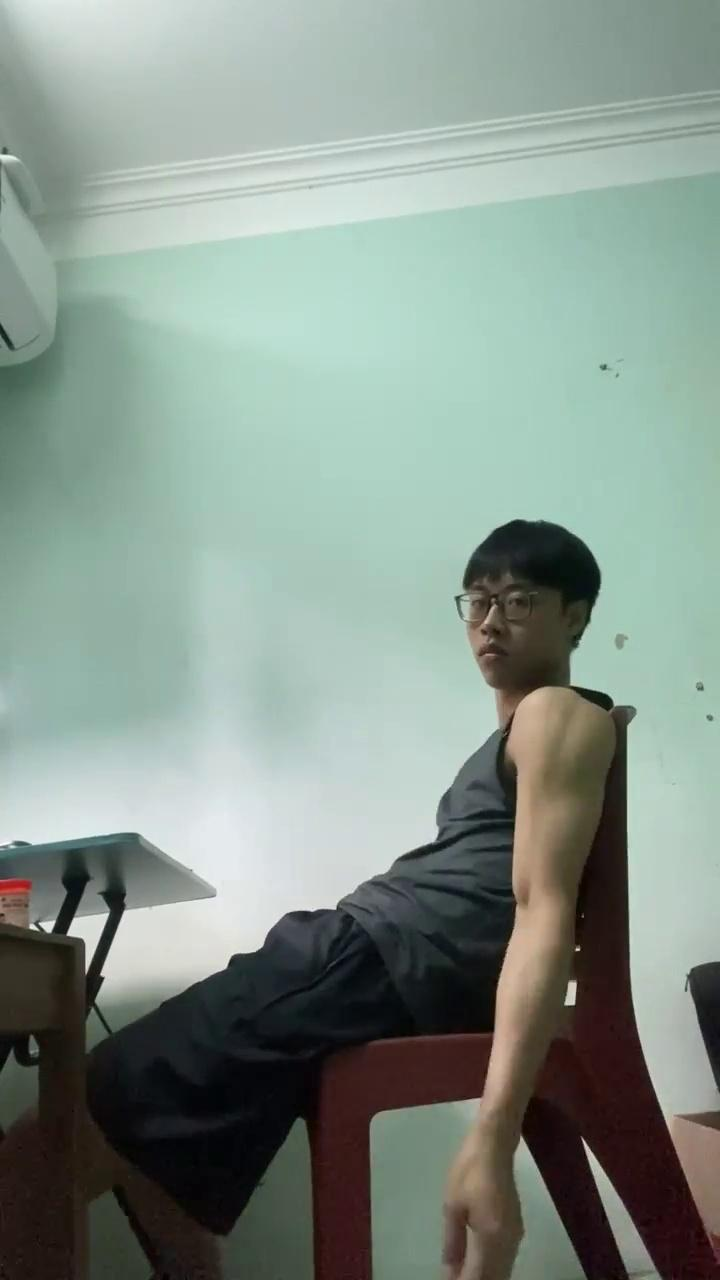BadPosture: (10, 519, 612, 1272), (338, 519, 614, 1028)
